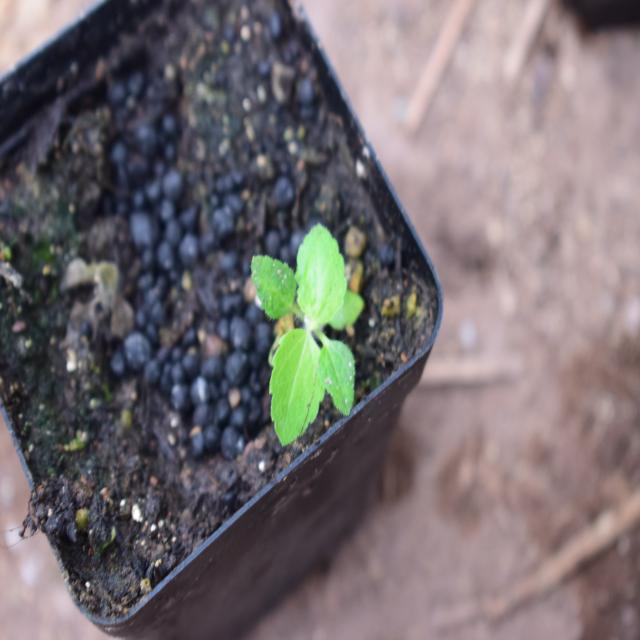billygoat_weed: (242, 208, 390, 434)
